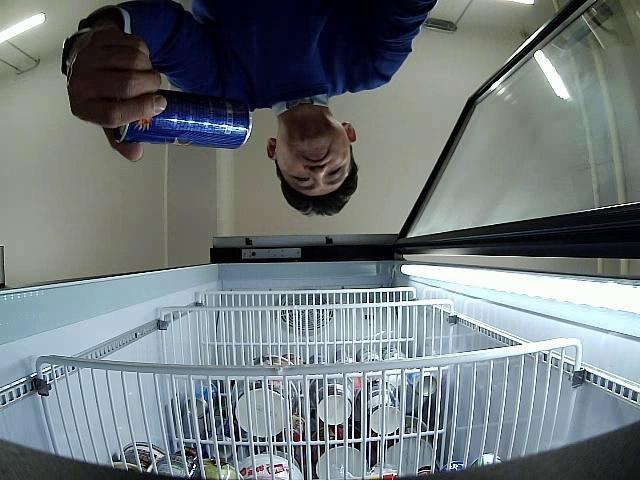16_hot6: (110, 90, 254, 152)
